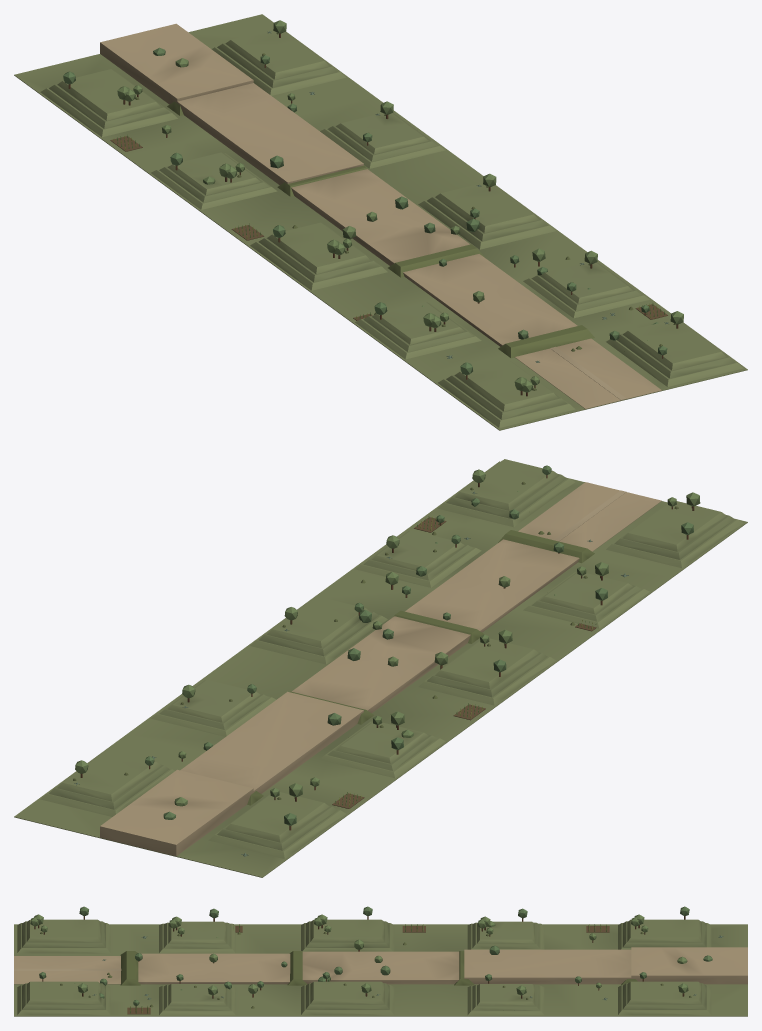
Rendered from avenue-of-the-dead-1500.glb.
The picture shows the model from 3 angles, top to bottom: view 1: azimuth 30°, elevation 25°; view 2: azimuth 150°, elevation 25°; view 3: azimuth 270°, elevation 25°; orthographic projection. The views are drawn at different scales.
Parts seen in each view (by area): view 1: p0_avenue, p1_walls, p2_growth; view 2: p0_avenue, p1_walls, p2_growth; view 3: p0_avenue, p1_walls, p2_growth.
Boxes of the visible parts, x1=… form: p0_avenue: x1=14, y1=14, x2=747, y2=430; p1_walls: x1=40, y1=20, x2=743, y2=427; p2_growth: x1=110, y1=47, x2=667, y2=399; p0_avenue: x1=14, y1=461, x2=747, y2=877; p1_walls: x1=40, y1=459, x2=743, y2=858; p2_growth: x1=151, y1=490, x2=649, y2=856; p0_avenue: x1=14, y1=924, x2=747, y2=1016; p1_walls: x1=17, y1=906, x2=711, y2=1015; p2_growth: x1=14, y1=908, x2=723, y2=1015.
Bounding box in the file's own units: 130 × 16.32 × 440.
